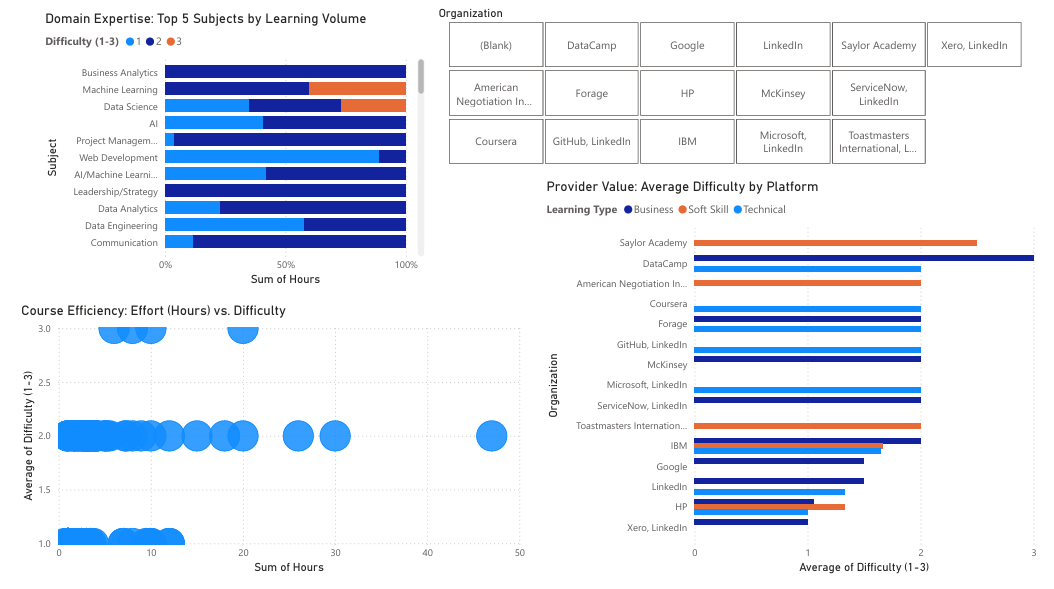

The dashboard page shown, as its layout file describes it:
{"tool":"powerbi","page":{"name":"Deep Dive and Effeciency","canvas":[1280,720],"ordinal":1},"visuals":[{"type":"scatterChart","title":"Course Efficiency: Effort (Hours) vs. Difficulty ","fields":{"Category":["Sheet1.Course Name"],"X":["Sum(Sheet1.Hours)"],"Y":["Sum(Sheet1.Difficulty (1–3))"],"Size":["Sum(Sheet1.Hours)"]},"box":[0,375,640,345],"z":0},{"type":"clusteredBarChart","title":"Provider Value: Average Difficulty by Platform","fields":{"Y":["Avg(Sheet1.Difficulty (1–3))"],"Category":["Sheet1.Organization "],"Series":["Sheet1.Learning Type"]},"box":[657.3,219.6,622.9,500.4],"z":1000},{"type":"slicer","fields":{"Values":["Sheet1.Organization "]},"box":[513.9,10.5,318.2,209.1],"z":2000},{"type":"gauge","fields":{"Y":["Sheet1.CompletionRate"]},"box":[881.3,10.5,374.9,191.2],"z":2001},{"type":"hundredPercentStackedBarChart","title":"Domain Expertise: Top 5  Subjects by Learning Volume","fields":{"Category":["Sheet1.Subject"],"Y":["Sum(Sheet1.Hours)"],"Series":["Sheet1.Difficulty (1–3)"]},"box":[29.9,10.5,484,349.5],"z":2002}]}

Visuals, with their boxes in screenshot pixels (x1, y1, x2, y2), scaled from the page's 1280x720 canvas onto the 1054x589 screenshot:
"Course Efficiency: Effort (Hours) vs. Difficulty " scatterChart: (0, 307, 527, 588)
"Provider Value: Average Difficulty by Platform" clusteredBarChart: (541, 180, 1053, 588)
slicer - Sheet1.Organization : (423, 9, 685, 180)
gauge - Sheet1.CompletionRate: (726, 9, 1034, 165)
"Domain Expertise: Top 5  Subjects by Learning Volume" hundredPercentStackedBarChart: (25, 9, 423, 294)
